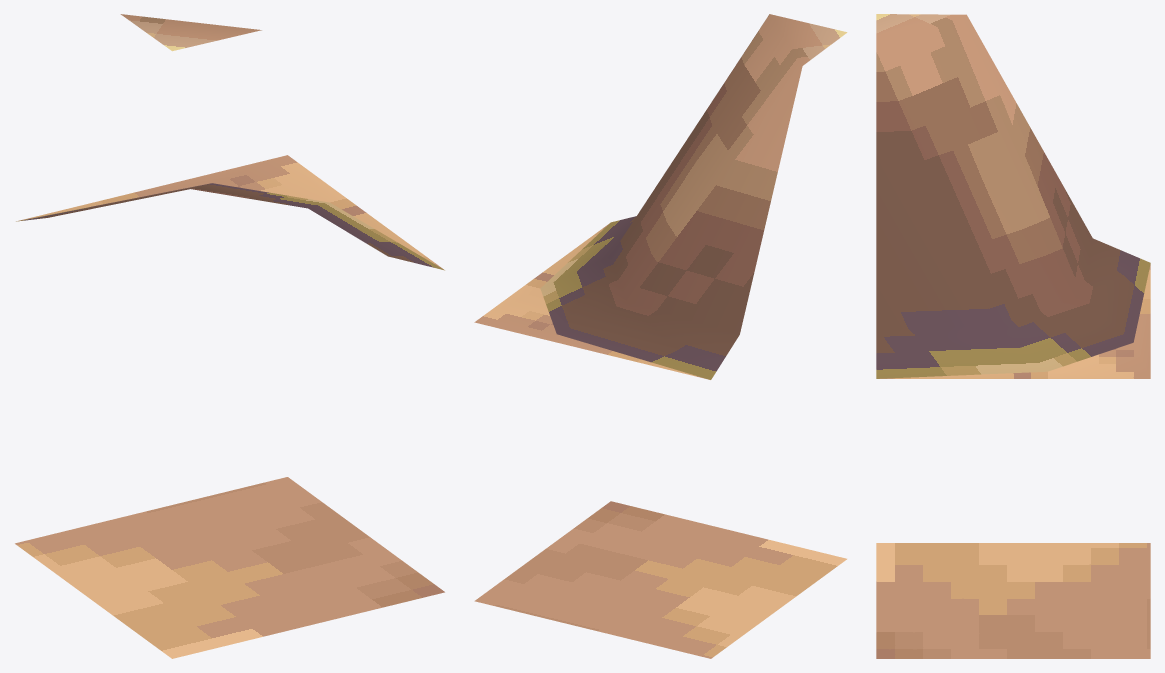
3 views of the same model, side by side, from view 1: azimuth 30°, elevation 25°; view 2: azimuth 150°, elevation 25°; view 3: azimuth 270°, elevation 25° (orthographic). The views are drawn at different scales.
Bounding box in the file's own units: 1 × 2.12 × 1.
2 materials, 2 textured.
